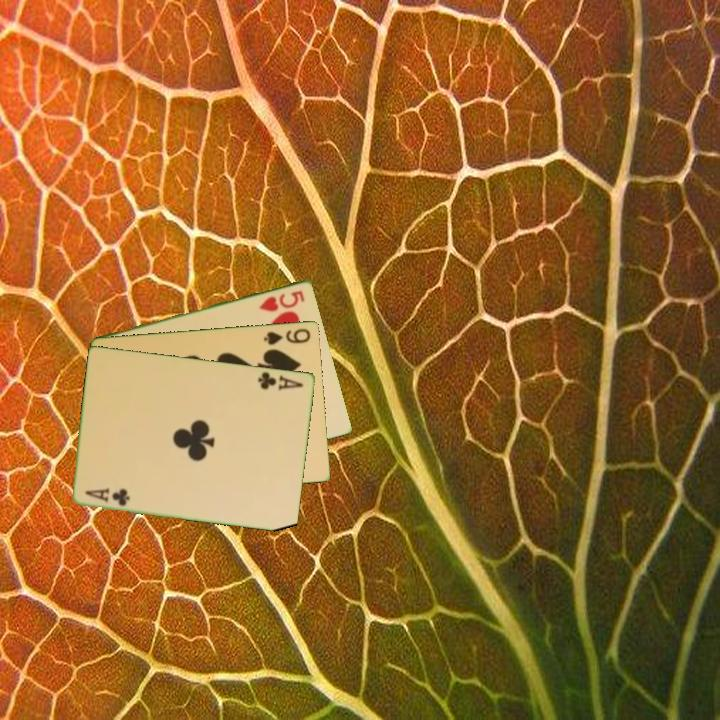5h: (256, 286, 308, 314)
9s: (261, 325, 314, 348)
Ac: (255, 368, 306, 393), (82, 484, 133, 508)
